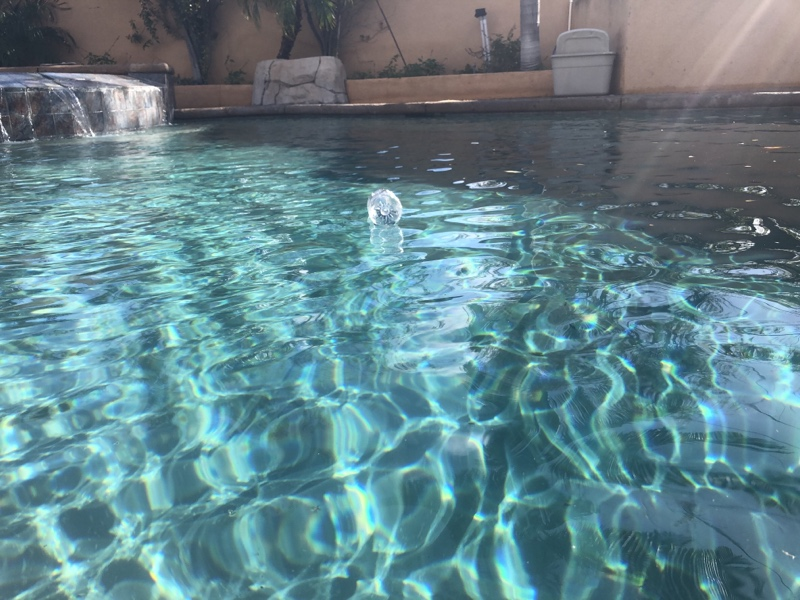Plastic Bottle: (365, 189, 403, 230)
